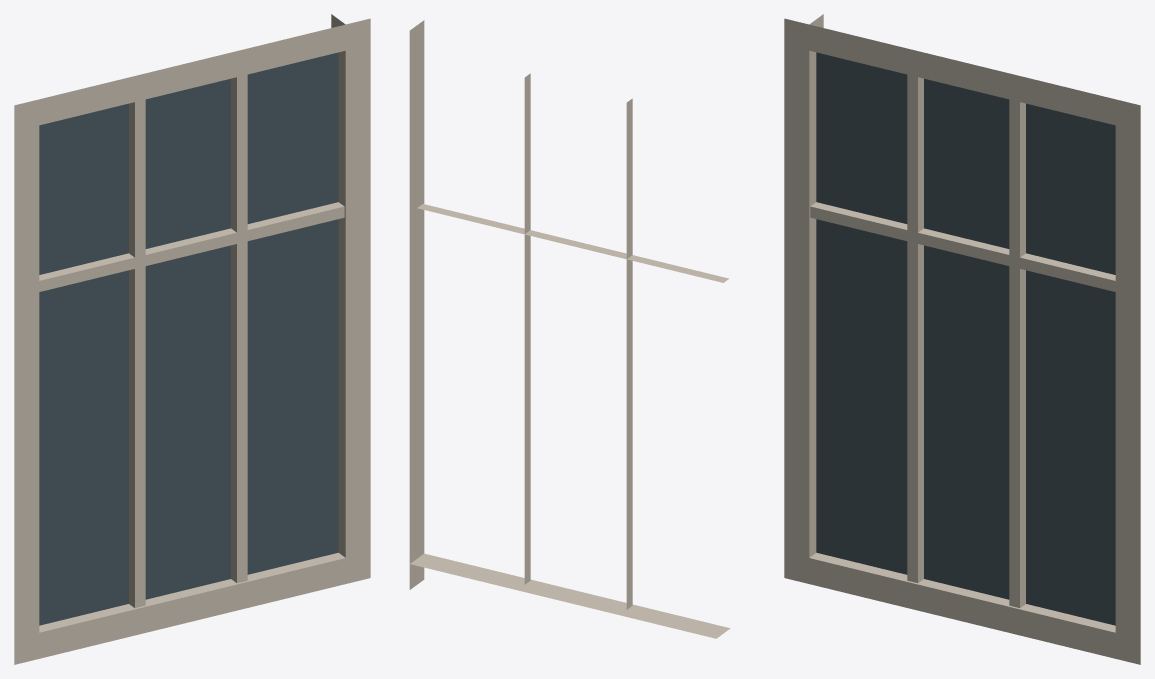
The model's file is window-arch.glb.
3 views of the same model, side by side, from view 1: azimuth 30°, elevation 25°; view 2: azimuth 150°, elevation 25°; view 3: azimuth 330°, elevation 25° (orthographic).
Size of the model in its own units: 1 by 1.5 by 0.07.
